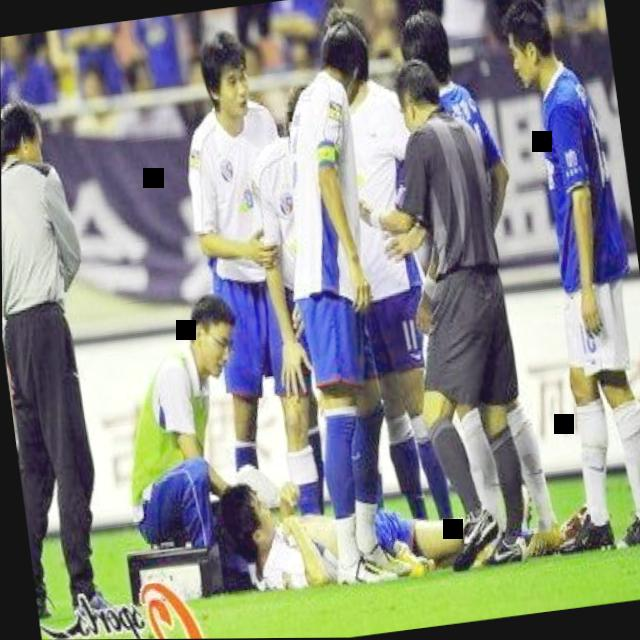Fall-Detected: (215, 428, 627, 610)
